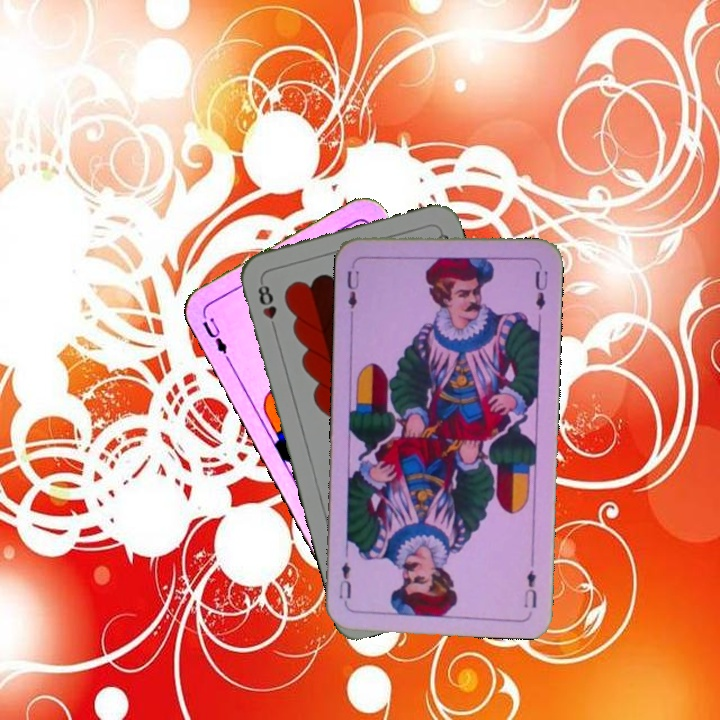EU: (198, 313, 230, 357), (343, 258, 362, 317), (520, 566, 539, 610)
H8: (254, 277, 280, 335)
